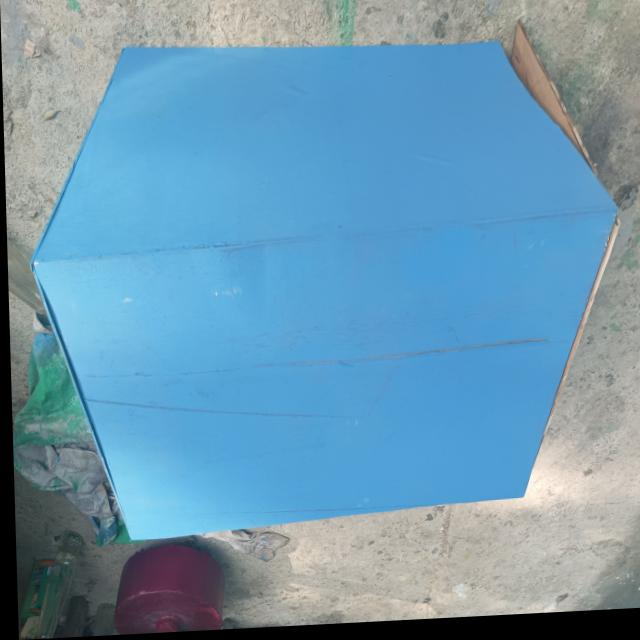blue_box: (31, 25, 618, 556)
